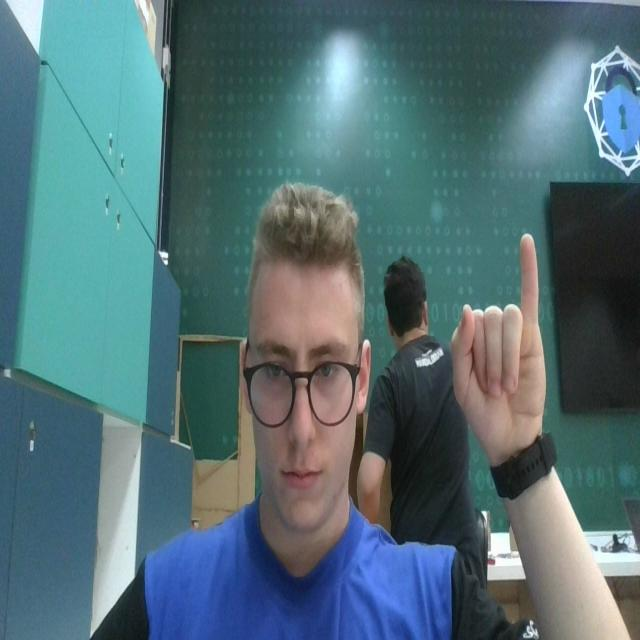I: (448, 226, 549, 444)
